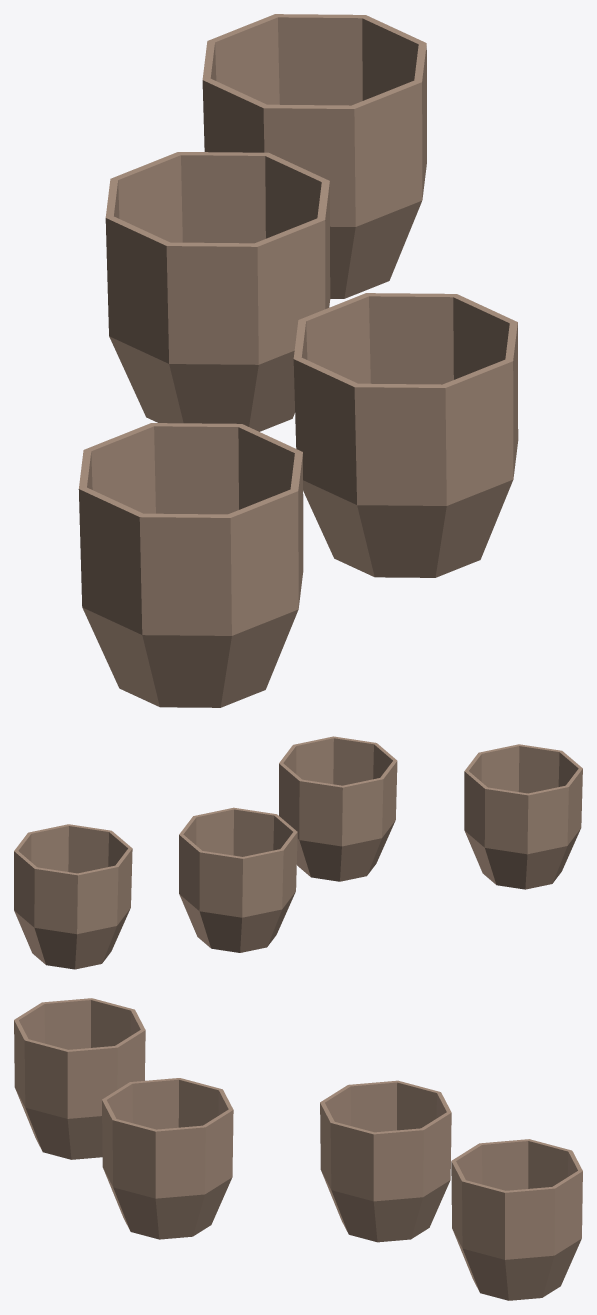
Rendered from Livingroom2_Glasses.fbx.
3 renders of one model, top to bottom at view 1: azimuth 30°, elevation 25°; view 2: azimuth 150°, elevation 25°; view 3: azimuth 270°, elevation 25°, orthographic. The views are drawn at different scales.
Visible parts, largest first — view 1: Livingroom2_Glasses; view 2: Livingroom2_Glasses; view 3: Livingroom2_Glasses.
Part boxes in pixels (x1=…): Livingroom2_Glasses: x1=78, y1=14, x2=518, y2=707; Livingroom2_Glasses: x1=14, y1=736, x2=582, y2=969; Livingroom2_Glasses: x1=14, y1=998, x2=582, y2=1300.
Bounding box in the file's own units: 34.19 × 9.69 × 41.85.
